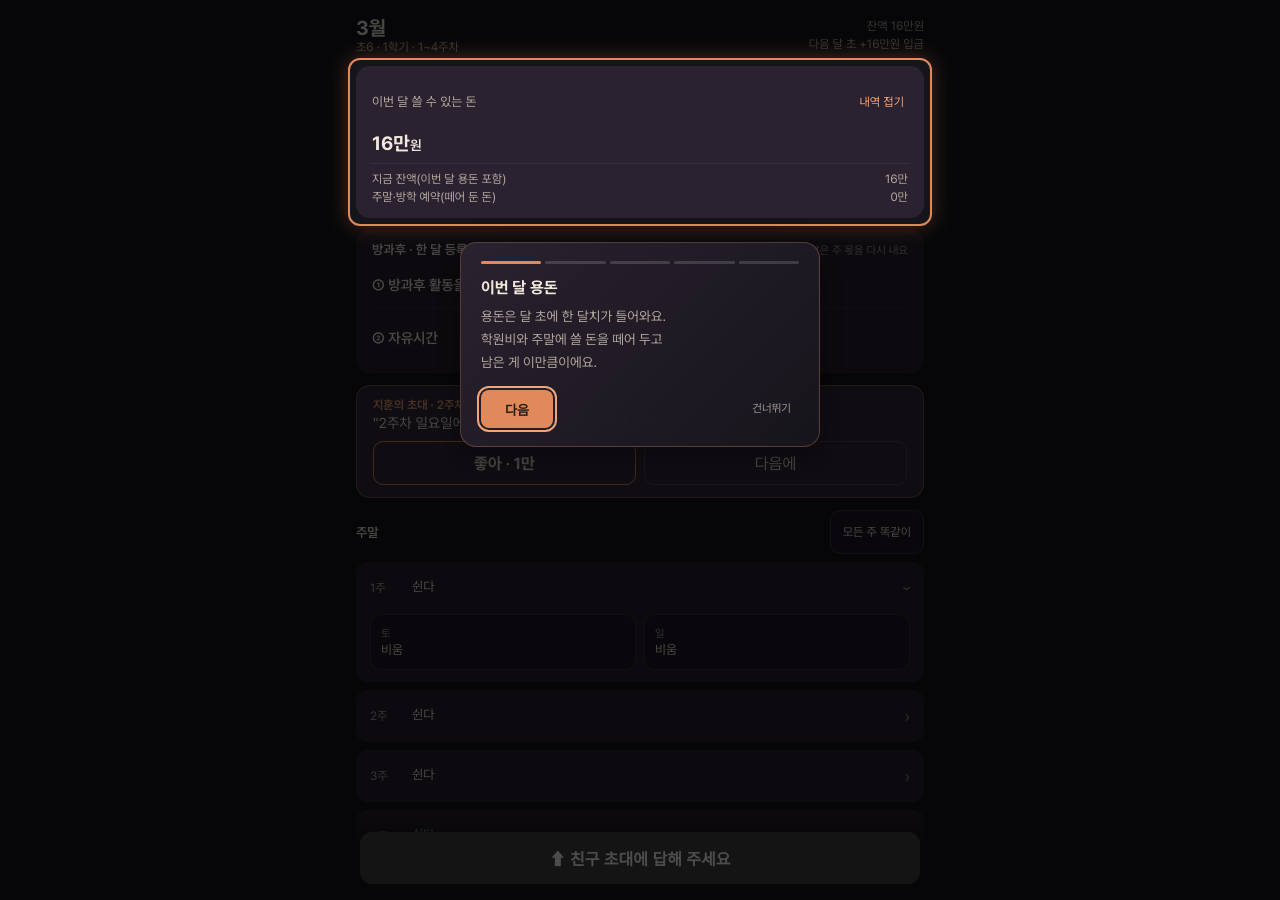
it: 월 계획 튜토리얼 — 한 번만, 영속 키 › 방과후 스텝은 루틴을 고르면 저절로 넘어간다(routine-done)
The width and height of the screenshot is (1280, 900).
Click the button "다음" at (517, 409), box [481,390,553,428]
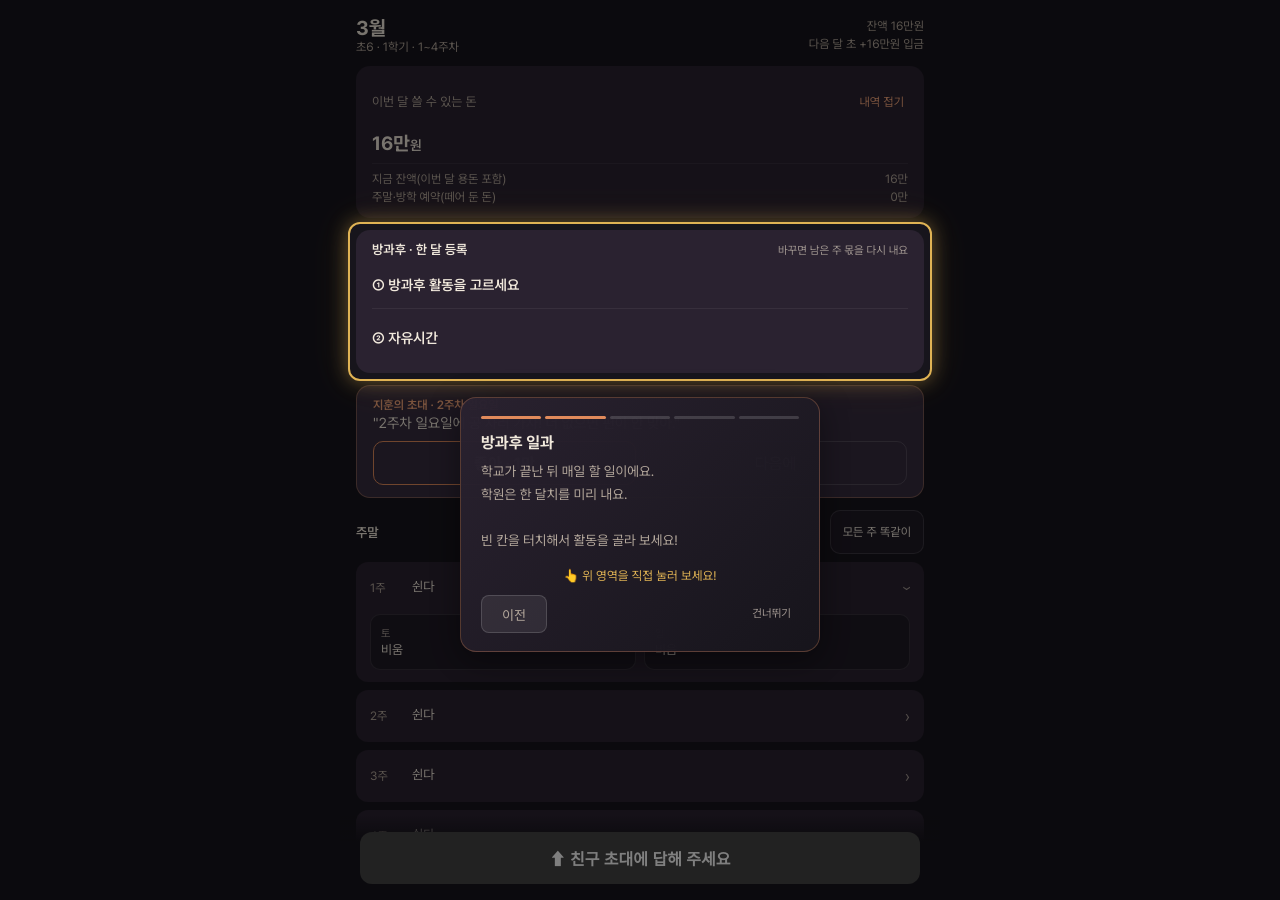
Expected: the text "방과후 일과" is shown, [481,433,554,452]
